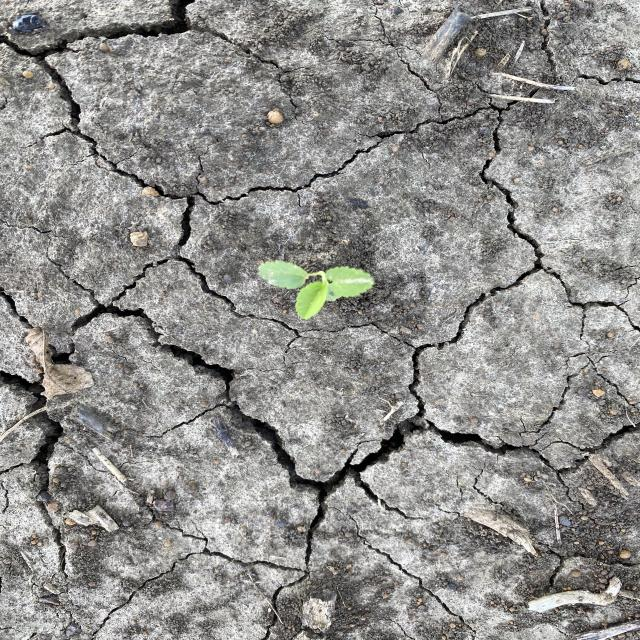PricklySida: (256, 258, 376, 322)
